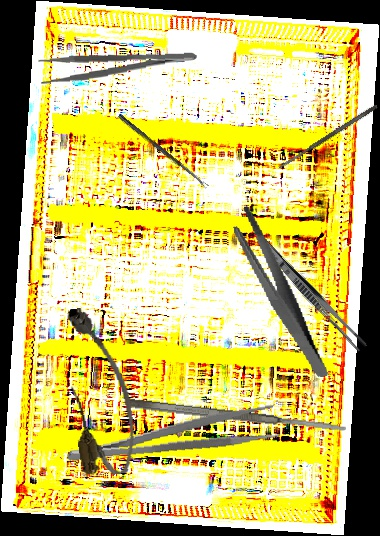Cannula: (57, 302, 141, 480)
Dressing Forceps: (229, 197, 329, 389), (251, 232, 370, 354), (63, 402, 281, 467), (37, 48, 198, 86)
Spatula Surgical: (127, 396, 347, 436), (276, 103, 379, 171)
Surgical Spoon: (117, 113, 209, 190)
